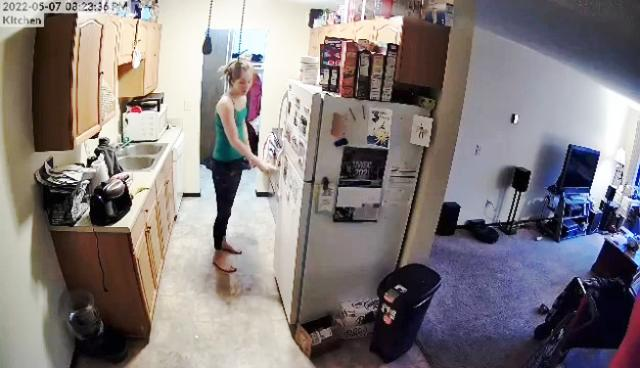berdiri: (210, 56, 276, 279)
